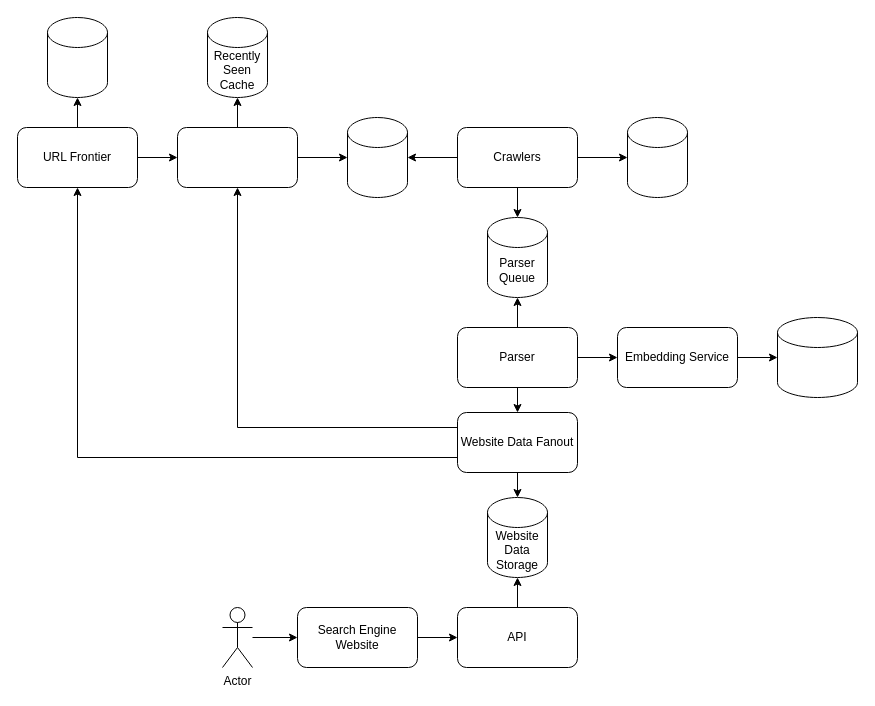
This 875x706 diagram has some shape labels left out. Each missing label, with the centre of its shape:
"Embedding Queue & Results" goes at point 817,357.
"Known Websites" goes at point 77,57.
"Priotized Queue" goes at point 377,157.
"Priotizer" goes at point 237,157.
"Robots.txt Cache" goes at point 657,157.
